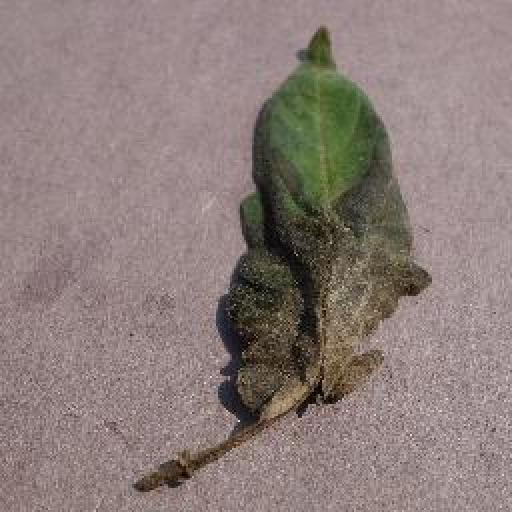Late Blight: (219, 23, 433, 421)
